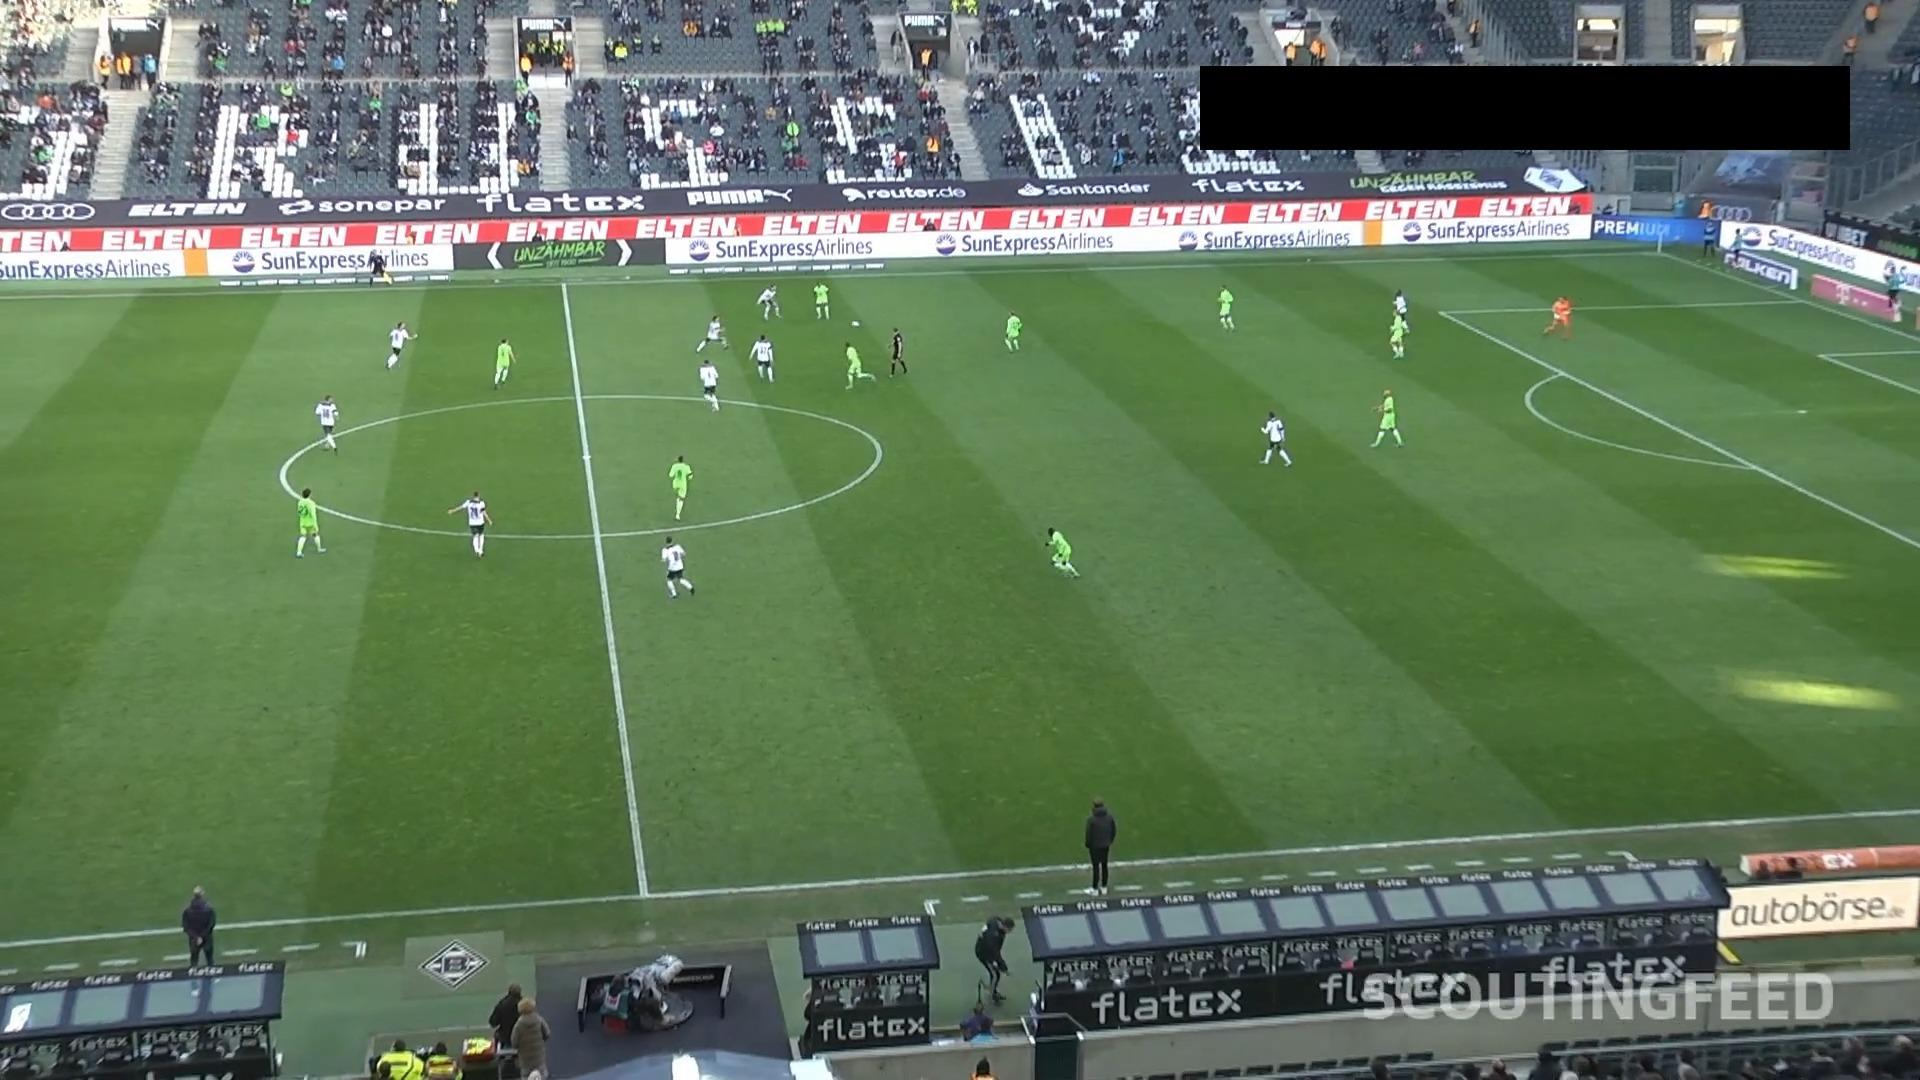coach: (1083, 796, 1116, 895), (180, 884, 217, 968), (1882, 259, 1905, 322)
player: (447, 490, 492, 557), (294, 487, 326, 557), (659, 535, 694, 597), (1369, 388, 1403, 447), (1044, 526, 1079, 579), (1258, 410, 1291, 466), (667, 454, 692, 520), (385, 320, 416, 369), (314, 394, 339, 450), (694, 314, 729, 354), (748, 333, 775, 382), (1542, 294, 1572, 338), (697, 358, 721, 411), (492, 337, 514, 389), (755, 283, 781, 320), (843, 341, 862, 390), (1216, 284, 1235, 331), (1387, 316, 1408, 358), (1002, 311, 1022, 352), (1390, 288, 1409, 331), (812, 281, 830, 319)
referee: (974, 915, 1014, 1003), (488, 981, 523, 1049), (887, 327, 907, 376), (367, 247, 392, 286)
